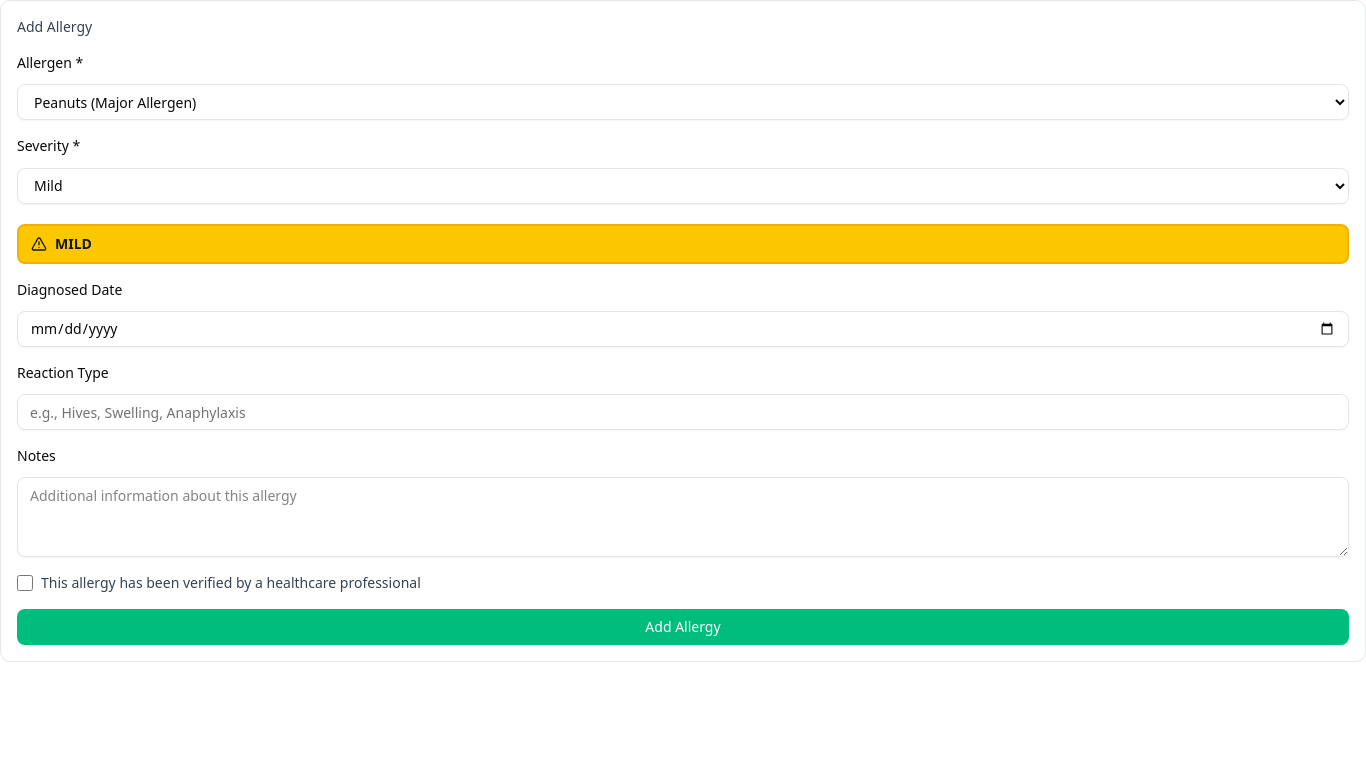
AllergyInput Component › displays error message when submission fails
Click the button "Add Allergy" at [683, 627], box [17,609,1349,645]
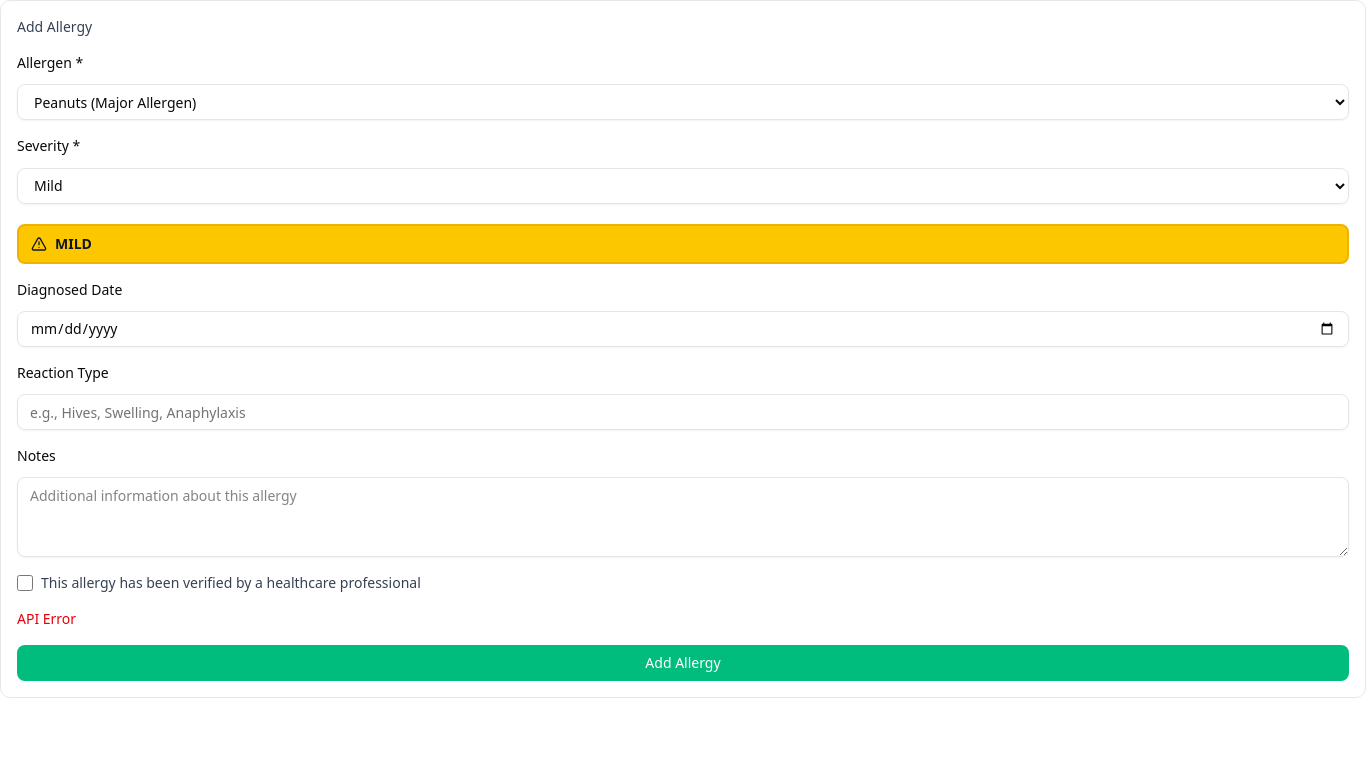
Check: the text "API Error" is shown, box [17,609,76,628]
